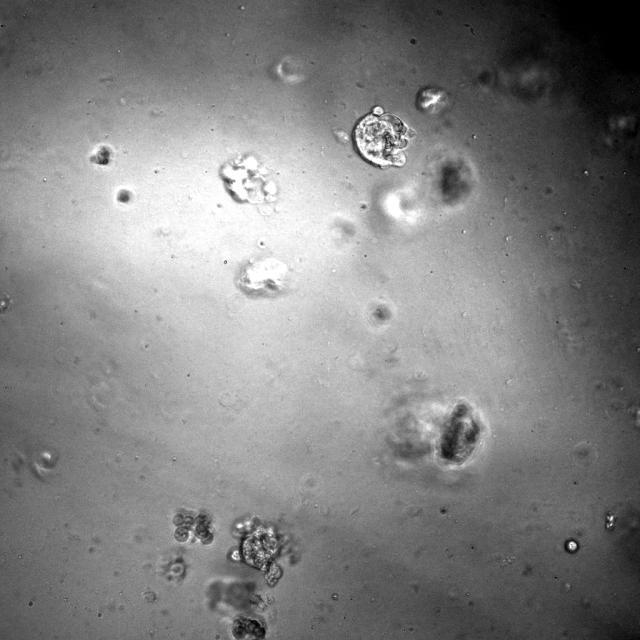organoid: (385, 391, 488, 468), (226, 512, 305, 587), (352, 106, 415, 168), (221, 154, 284, 214), (206, 579, 267, 639), (236, 257, 288, 296), (439, 158, 472, 204), (172, 508, 214, 544), (416, 86, 452, 115), (90, 144, 113, 166), (116, 188, 134, 204), (564, 538, 579, 554)
